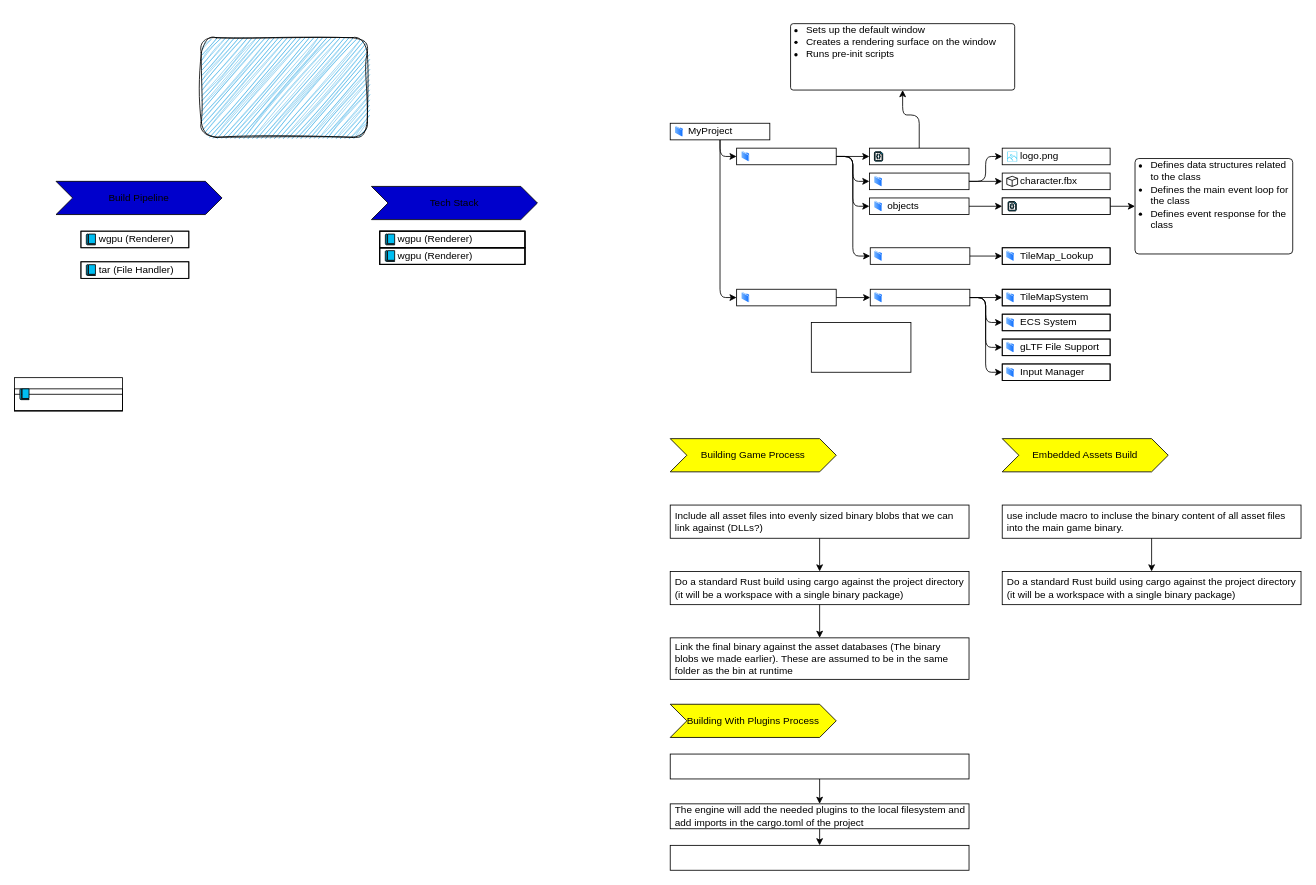
This 1316x885 diagram has some shape labels left out. The shapes that lost their labels are listed below. From the top down, each one's centre as x and y in pixels, then its label:
At (283,87): "GameState Handler Asset Loader/Handler (calling for render/usage)".
At (786,156): "src".
At (919,156): "main.rs".
At (919,181): "assets".
At (1055,206): "player.rs".
At (919,255): "(Generic)Plugins".
At (786,297): "libpulsar".
At (919,297): "(Engine)Plugins".
At (860,347): "fdgdfsgsdfgs".
At (68,394): "Pre-defined Classes".
At (819,766): "The user enables plugins via the plugins menu in the GUI".
At (819,857): "Engine uses cargo build to build the project as normal".
